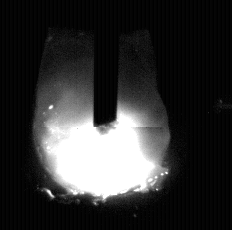arame: (94, 0, 119, 128)
poca: (33, 0, 171, 230)
